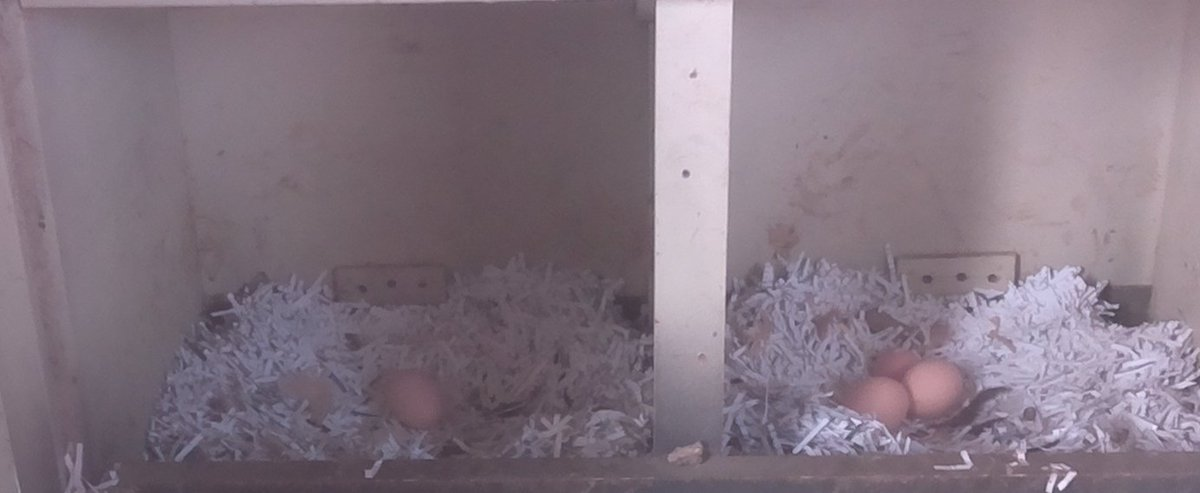egg: (377, 363, 456, 438), (904, 356, 968, 428), (838, 374, 914, 434), (866, 348, 925, 383)
